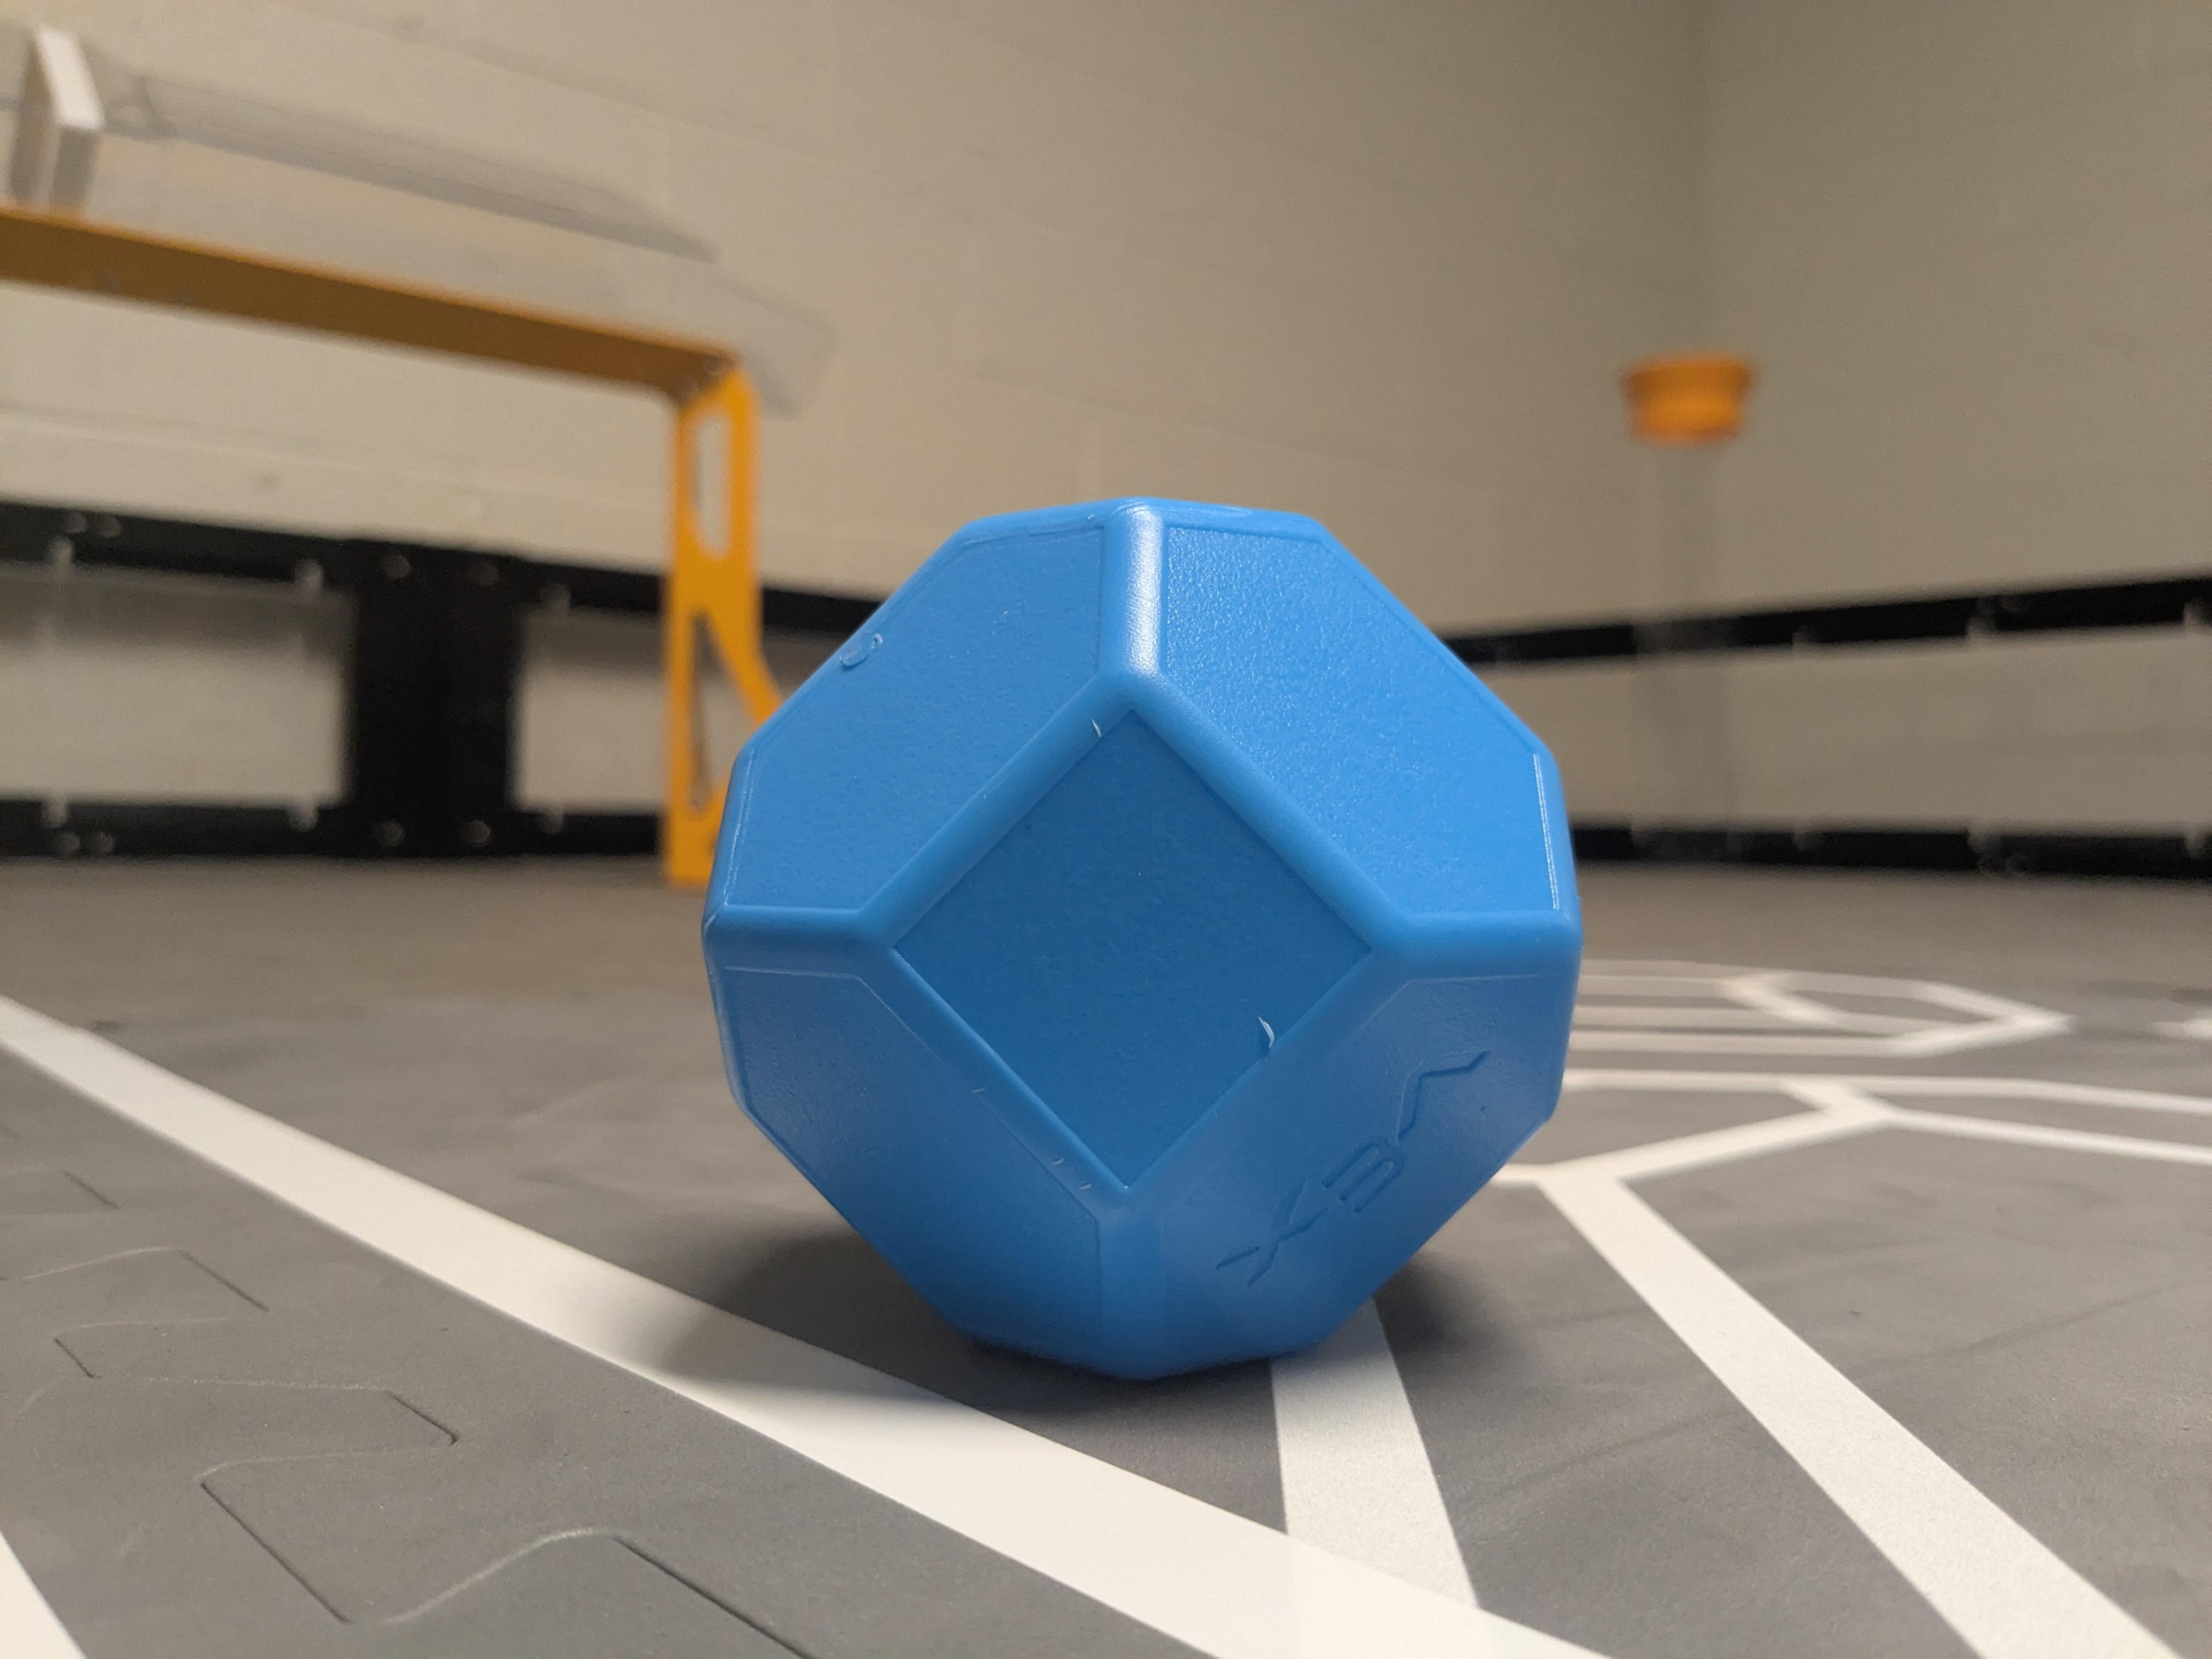Vex-Pieces-BLUE: (712, 497, 1585, 1378)
